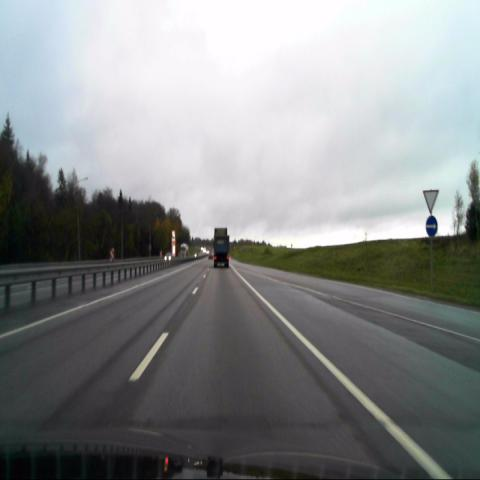4_1_2_1: (424, 215, 438, 237)
